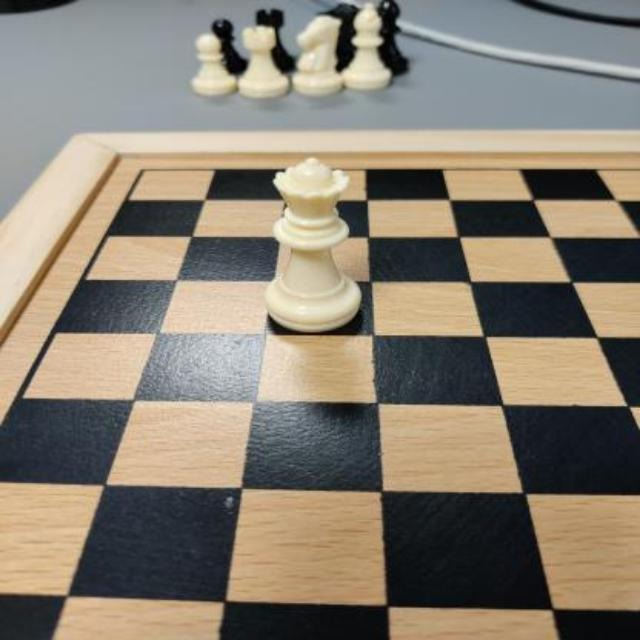white-queen: (262, 157, 362, 332)
